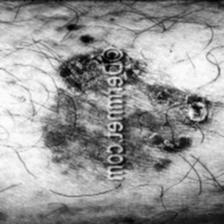Potentially Malignant Skin Tumors: (58, 48, 134, 89), (164, 92, 222, 128)
